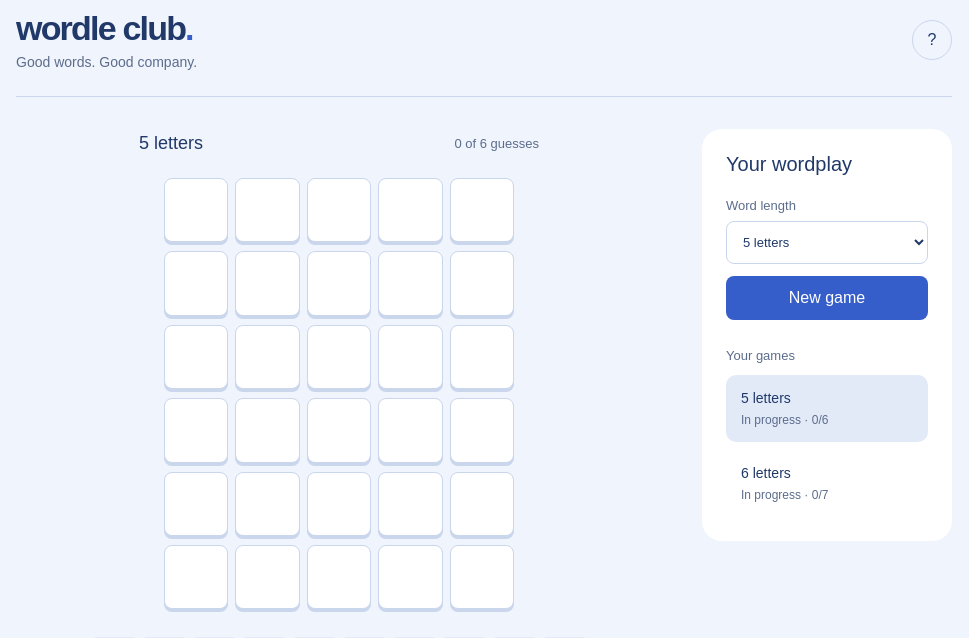
Test case: selecting a game refreshes a stale list copy
Expected: the heading "5 letters" is shown, [139,133,203,154]
Click the button "6 letters In progress · 0/7". click: point(827, 484)
box: [726,450,928,517]
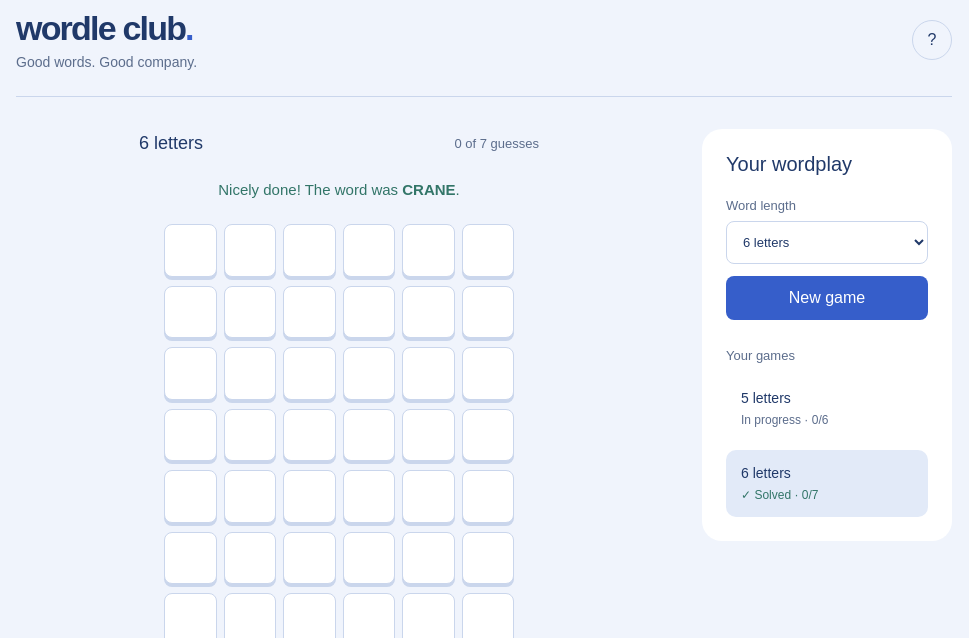
Now the text "Nicely done! The word was crane." is shown, box [218,181,460,198]
